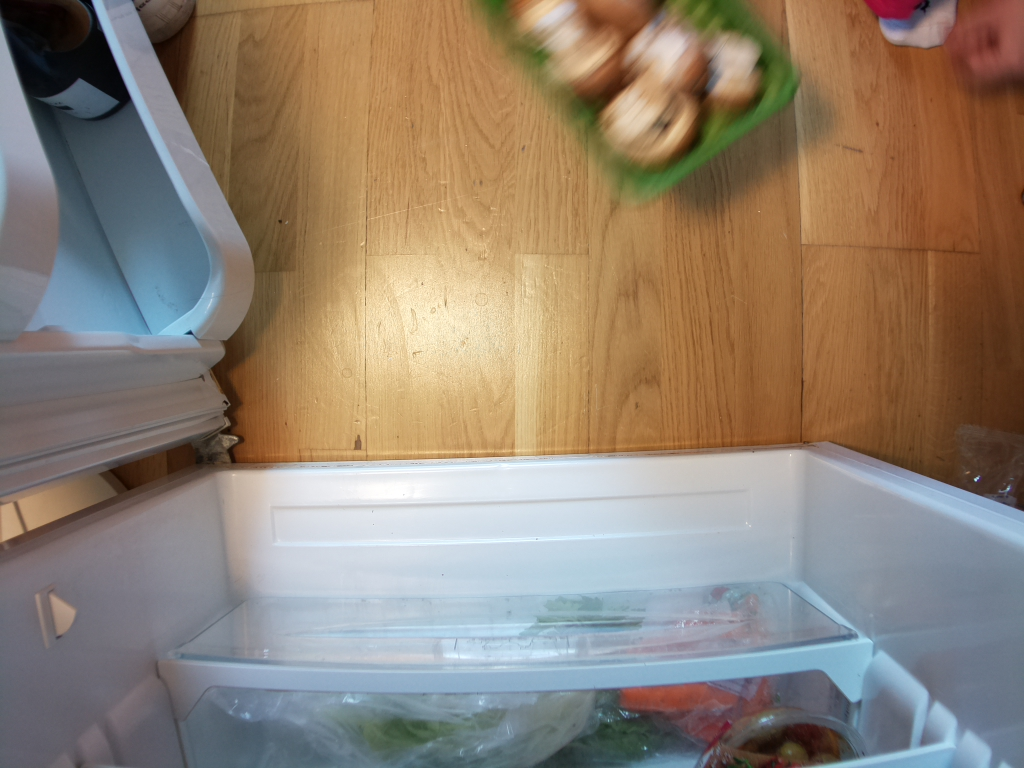mushrooms: (494, 1, 804, 188)
